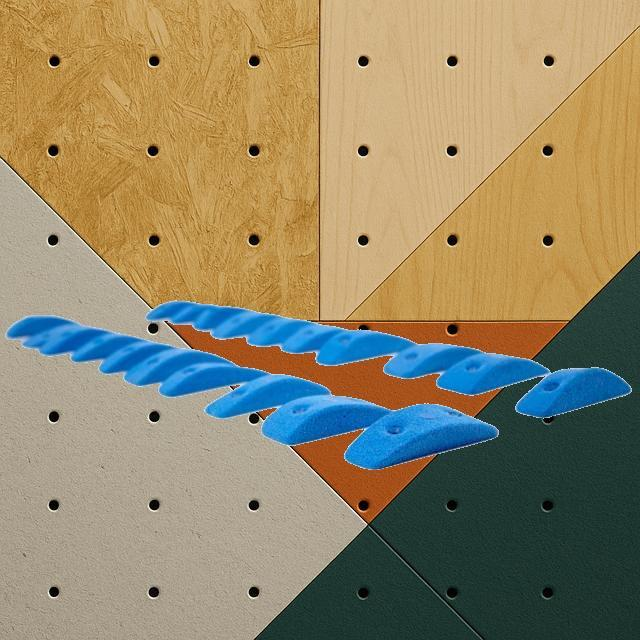Pinch: (344, 402, 498, 470), (261, 393, 391, 445), (204, 372, 330, 420), (515, 366, 631, 418), (436, 351, 548, 395), (123, 348, 234, 386), (158, 362, 270, 398), (382, 341, 482, 379), (318, 330, 417, 366), (99, 342, 178, 374), (247, 317, 321, 347), (72, 332, 146, 362), (39, 328, 113, 357), (281, 324, 349, 354), (5, 313, 79, 339), (213, 311, 281, 339), (21, 324, 83, 350), (145, 300, 209, 324), (190, 306, 248, 330), (172, 304, 212, 324)
